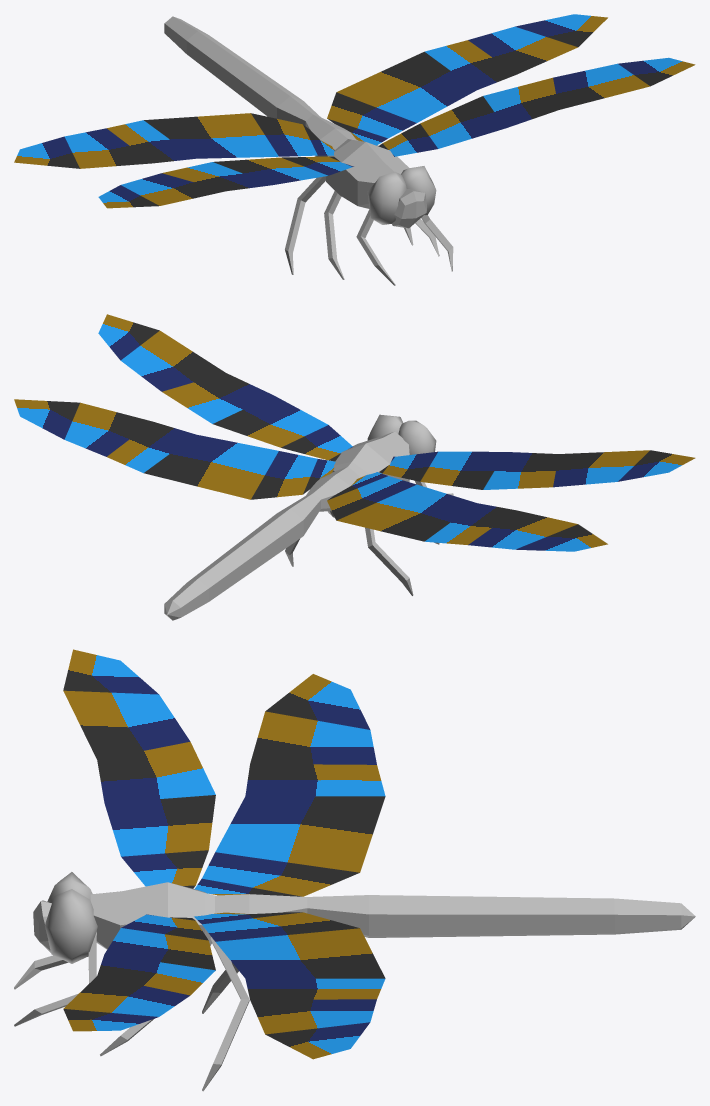
File: libelula.glb
3 views of the same model, one above another, from view 1: azimuth 30°, elevation 25°; view 2: azimuth 150°, elevation 25°; view 3: azimuth 270°, elevation 25° (orthographic). The views are drawn at different scales.
Parts seen in each view (by area): view 1: Geo_Dragonfly; view 2: Geo_Dragonfly; view 3: Geo_Dragonfly.
Part boxes in pixels (x1,y1,x2,y2): Geo_Dragonfly: [14, 14, 695, 285]; Geo_Dragonfly: [14, 314, 695, 620]; Geo_Dragonfly: [14, 649, 695, 1091].
Bounding box in the file's own units: 13.33 × 3.42 × 9.96.
2 materials, 1 textured.
